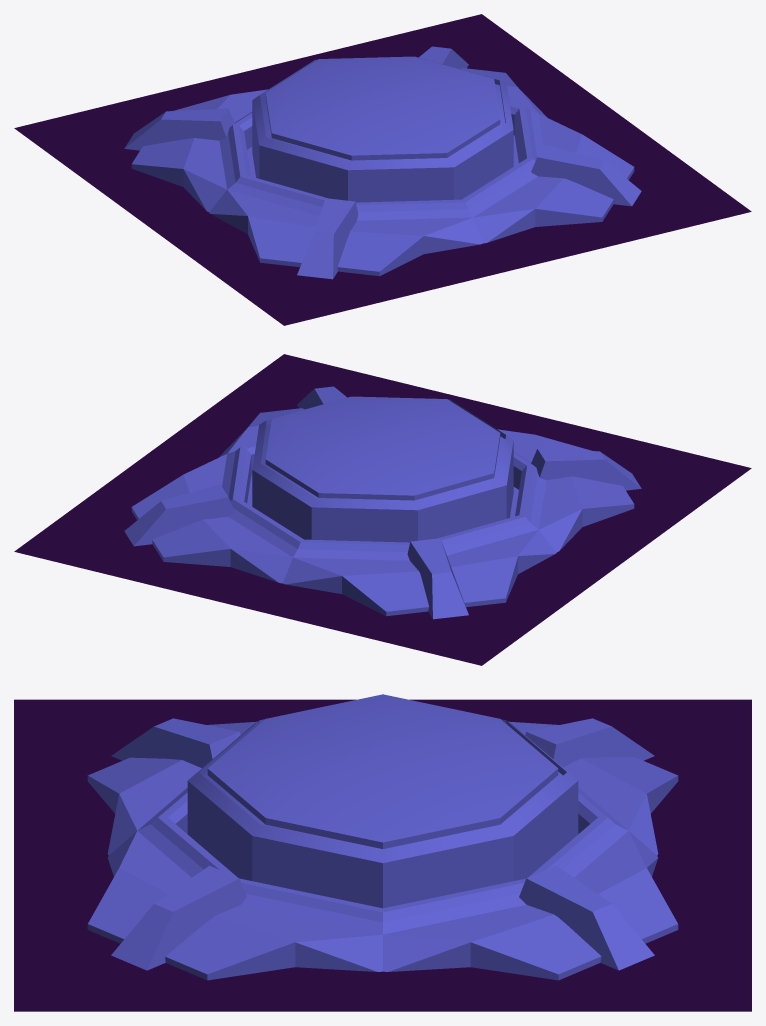
Rendered from Tile_Bouton.FBX.
3 renders of one model, top to bottom at view 1: azimuth 30°, elevation 25°; view 2: azimuth 150°, elevation 25°; view 3: azimuth 270°, elevation 25°, orthographic. The views are drawn at different scales.
Visible parts, largest first — view 1: Bouton, Box157, Box494, Box493, Box496, Box495; view 2: Bouton, Box157, Box495, Box496, Box493, Box494; view 3: Bouton, Box157, Box494, Box495, Box493, Box496.
Boxes of the visible parts, <box> form: Bouton: <box>14,14,751,325</box>; Box157: <box>131,68,634,276</box>; Box494: <box>531,144,641,206</box>; Box493: <box>297,198,358,279</box>; Box496: <box>124,108,234,150</box>; Box495: <box>419,46,468,68</box>; Bouton: <box>14,354,751,665</box>; Box157: <box>131,408,634,616</box>; Box495: <box>124,484,234,546</box>; Box496: <box>407,538,468,619</box>; Box493: <box>531,448,641,490</box>; Box494: <box>297,386,346,409</box>; Bouton: <box>14,694,751,1011</box>; Box157: <box>87,721,678,980</box>; Box494: <box>111,865,246,970</box>; Box495: <box>519,865,654,970</box>; Box493: <box>111,718,240,767</box>; Box496: <box>525,718,654,767</box>.
Bounding box in the file's own units: 2 × 0.4112 × 2.
